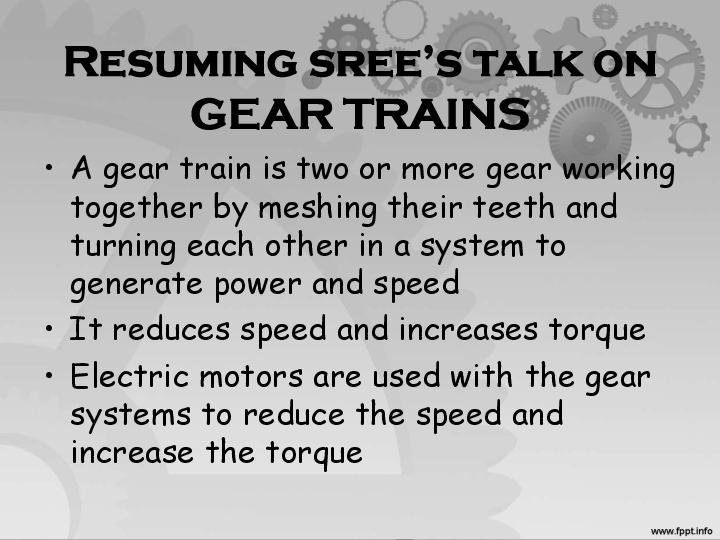paragraph: (35, 152, 697, 480)
title: (55, 27, 664, 145)
